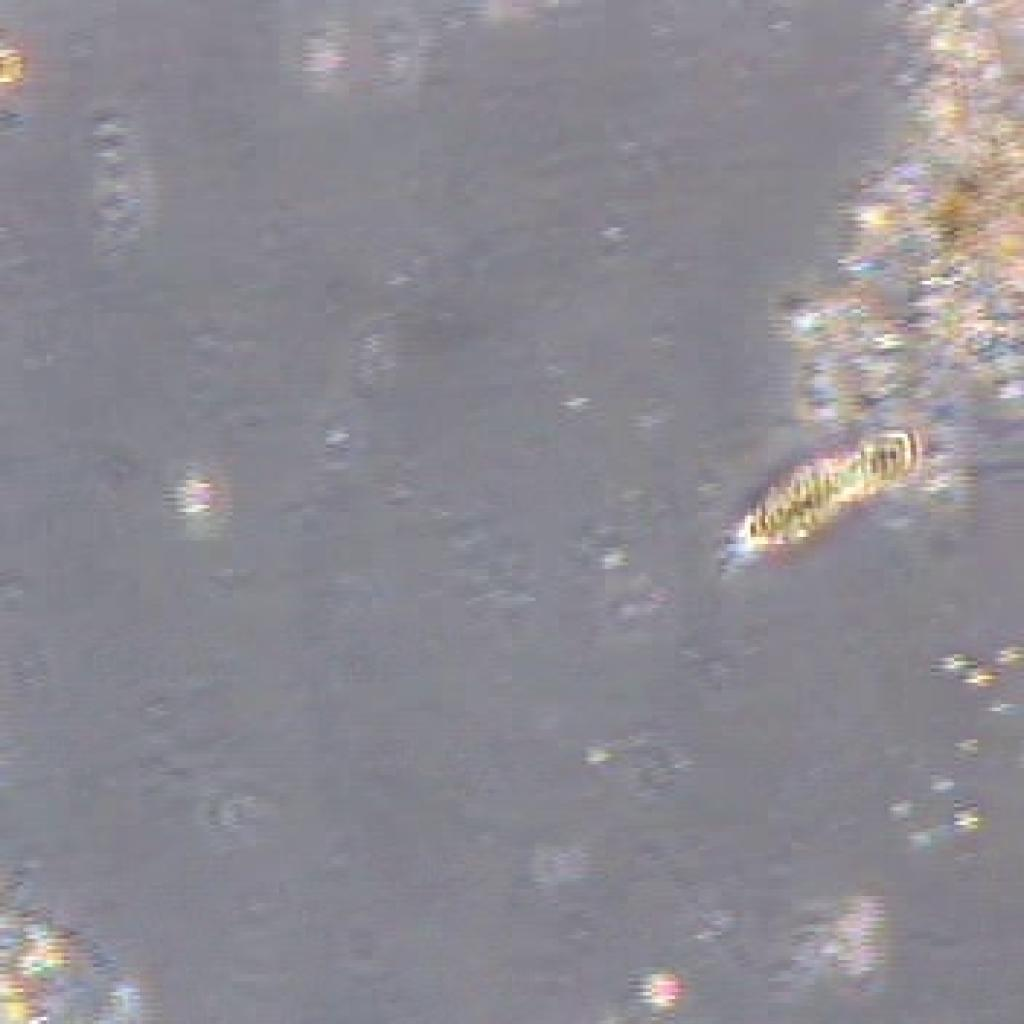Chaetonotus: (701, 421, 940, 578)
